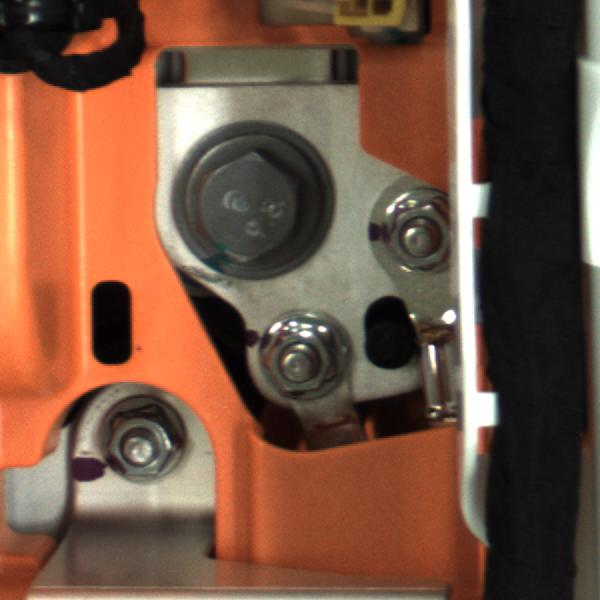nut_b: (158, 124, 329, 272)
screw_s: (96, 396, 194, 496), (253, 309, 345, 404), (371, 189, 451, 281)
